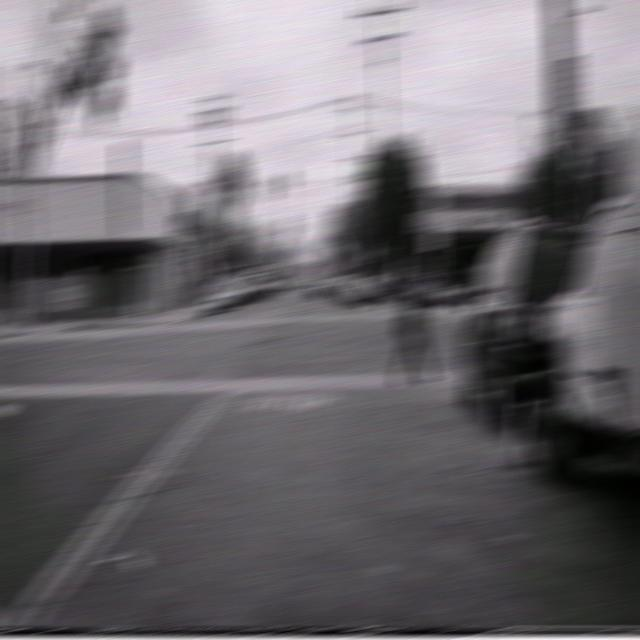stop: (571, 105, 614, 175)
